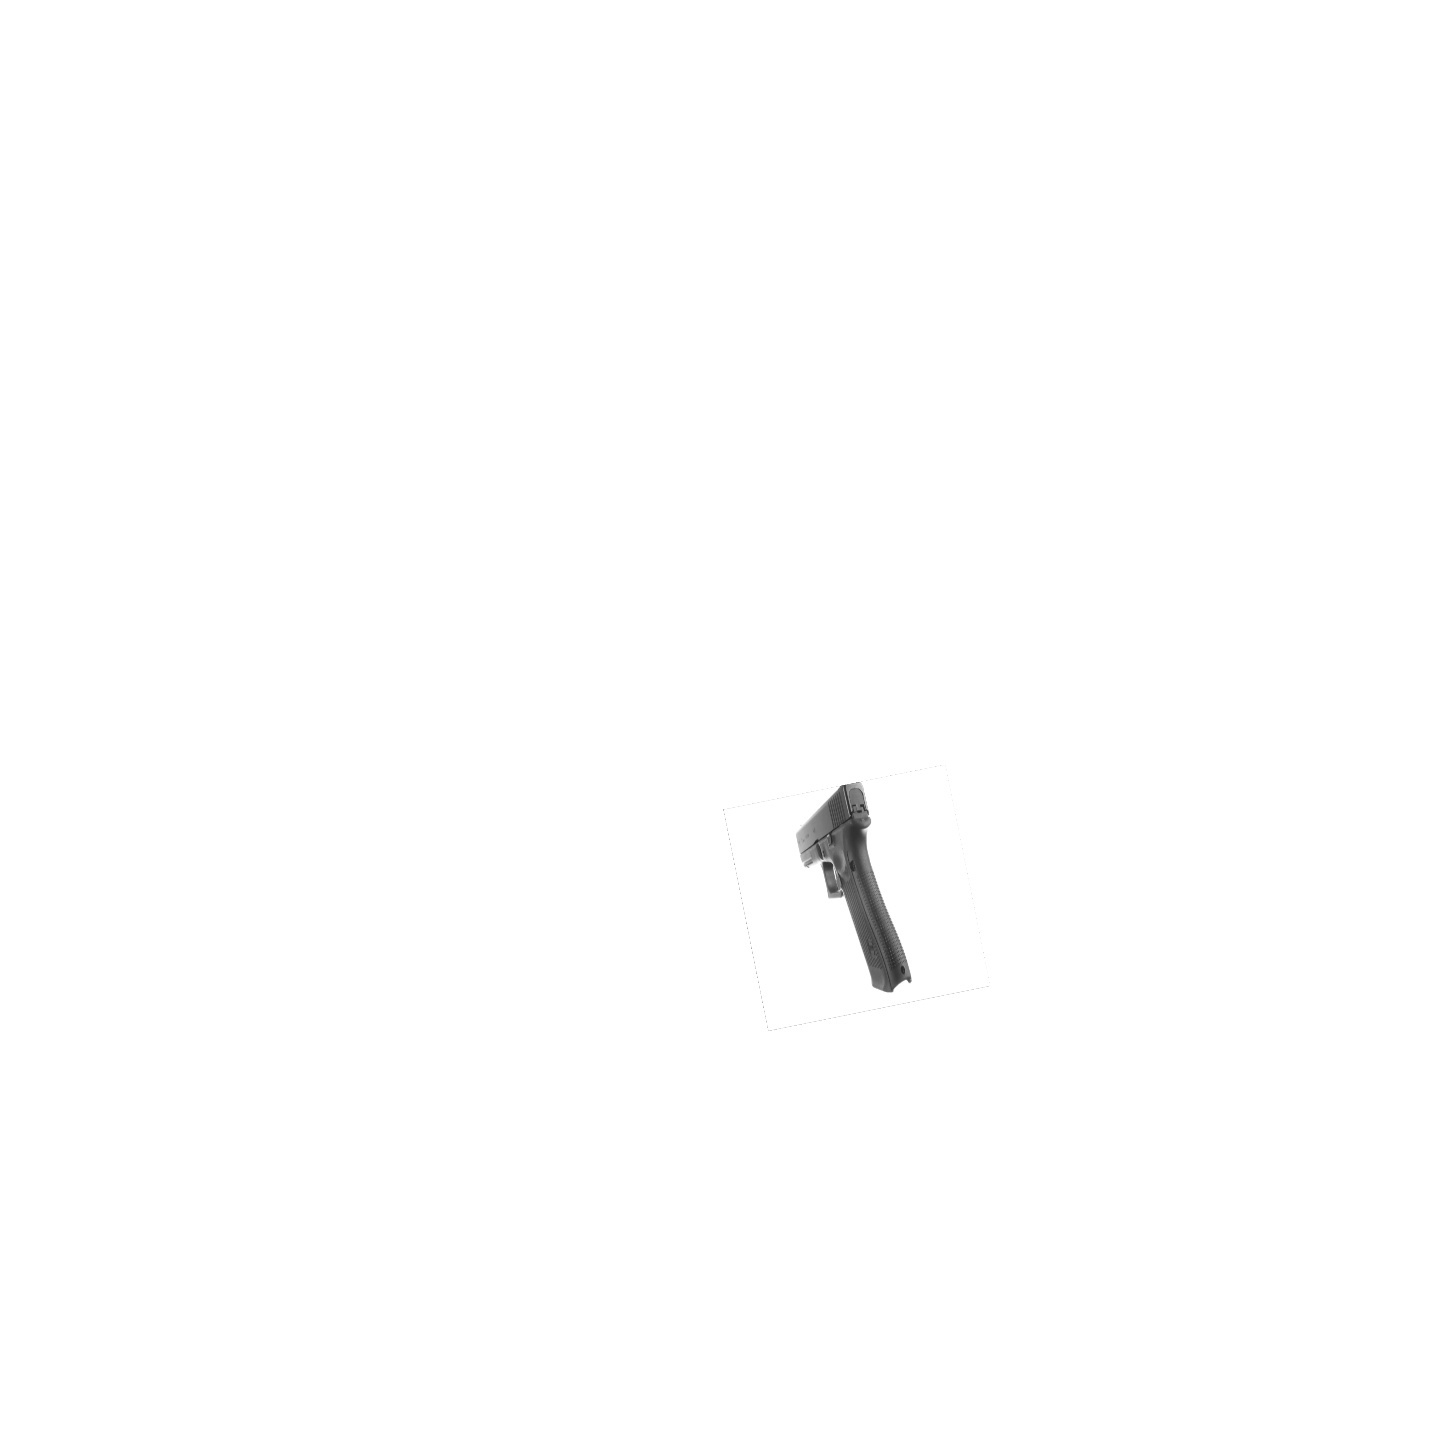gun: (795, 780, 913, 996)
